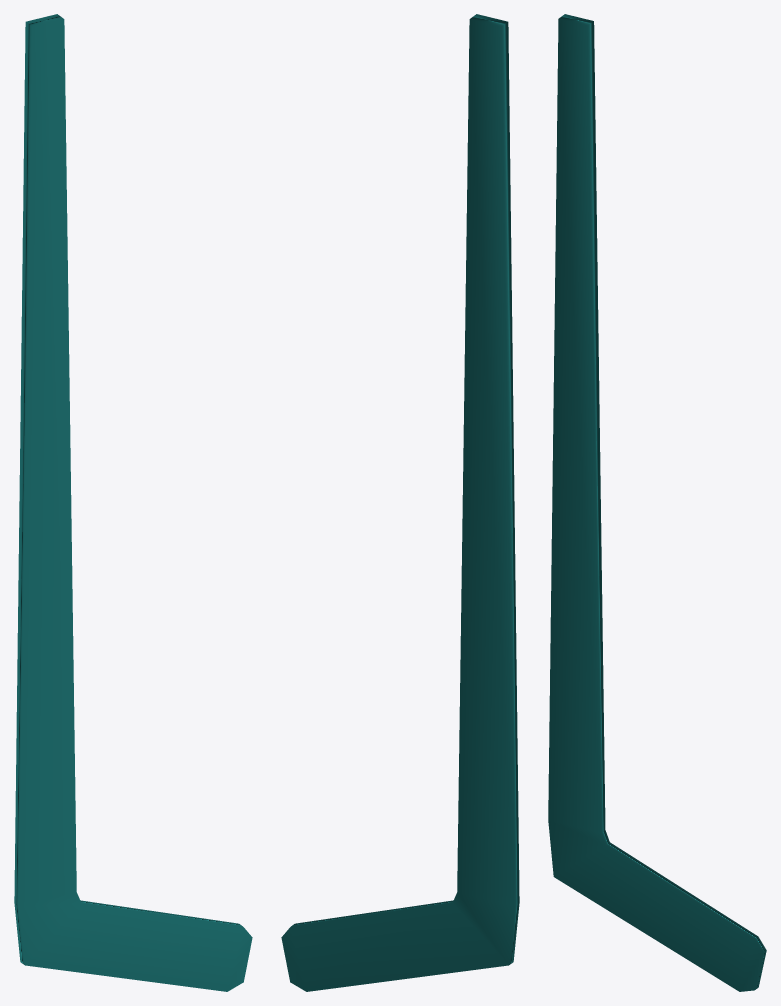
The model's file is goalie_stick_collider.fbx.
3 renders of one model, left to right at view 1: azimuth 30°, elevation 25°; view 2: azimuth 150°, elevation 25°; view 3: azimuth 330°, elevation 25°, orthographic. The views are drawn at different scales.
Visible parts, largest first — view 1: goalie_stick_collider; view 2: goalie_stick_collider; view 3: goalie_stick_collider.
Part boxes in pixels (box(x1,y1,x2,y2)): goalie_stick_collider: box(14, 14, 252, 991); goalie_stick_collider: box(281, 14, 519, 991); goalie_stick_collider: box(548, 14, 766, 991).
Bounding box in the file's own units: 36.46 × 151 × 1.92.
